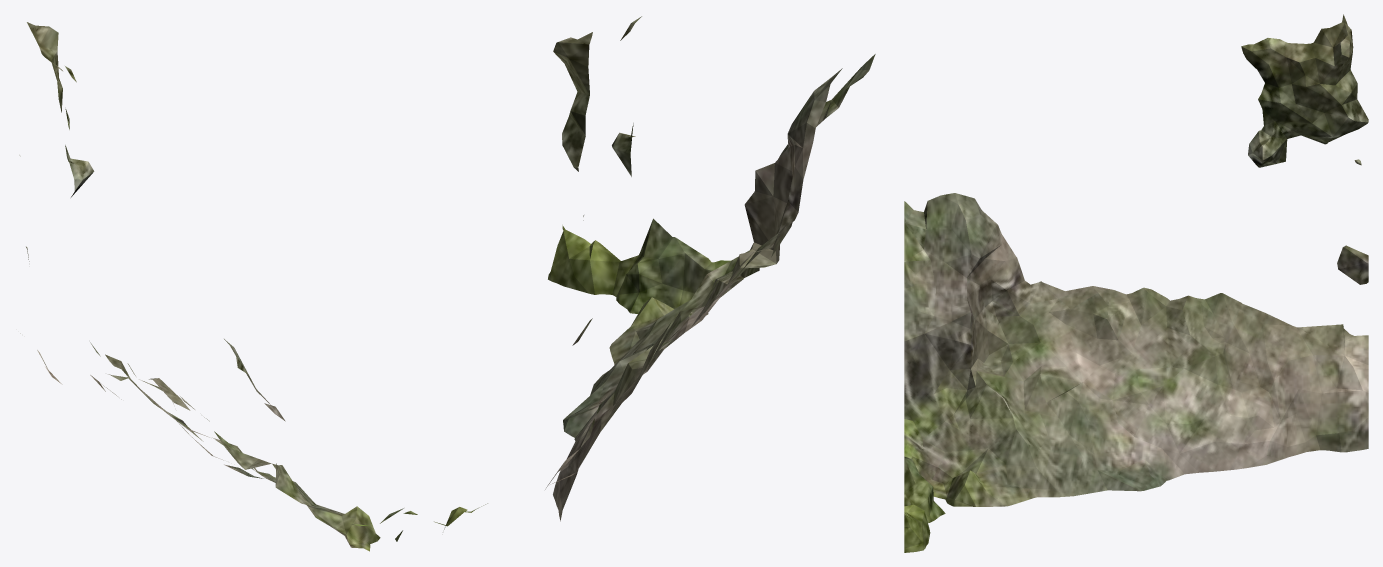
3 renders of one model, left to right at view 1: azimuth 30°, elevation 25°; view 2: azimuth 150°, elevation 25°; view 3: azimuth 270°, elevation 25°, orthographic. The views are drawn at different scales.
Bounding box in the file's own units: 1.85 × 2.92 × 2.95.
2 materials, 2 textured.
